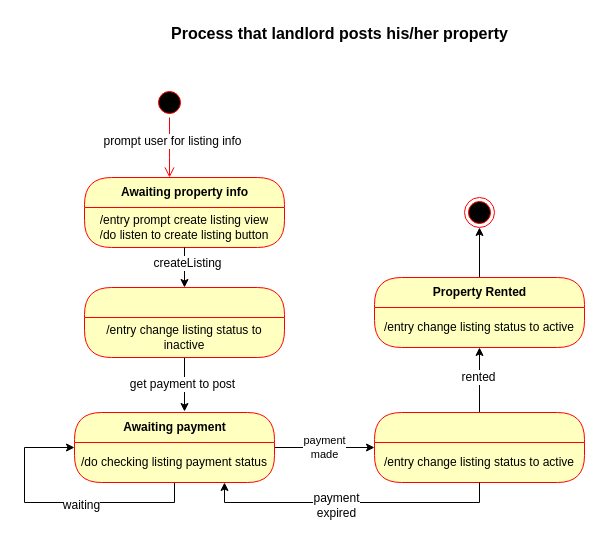
This 602x536 diagram has some shape labels left out. The box of each missing label's shape, as (x1, y1, x2, y2) in pixels:
Create listing object: (84, 286, 284, 358)
Listing posted: (374, 412, 584, 482)
